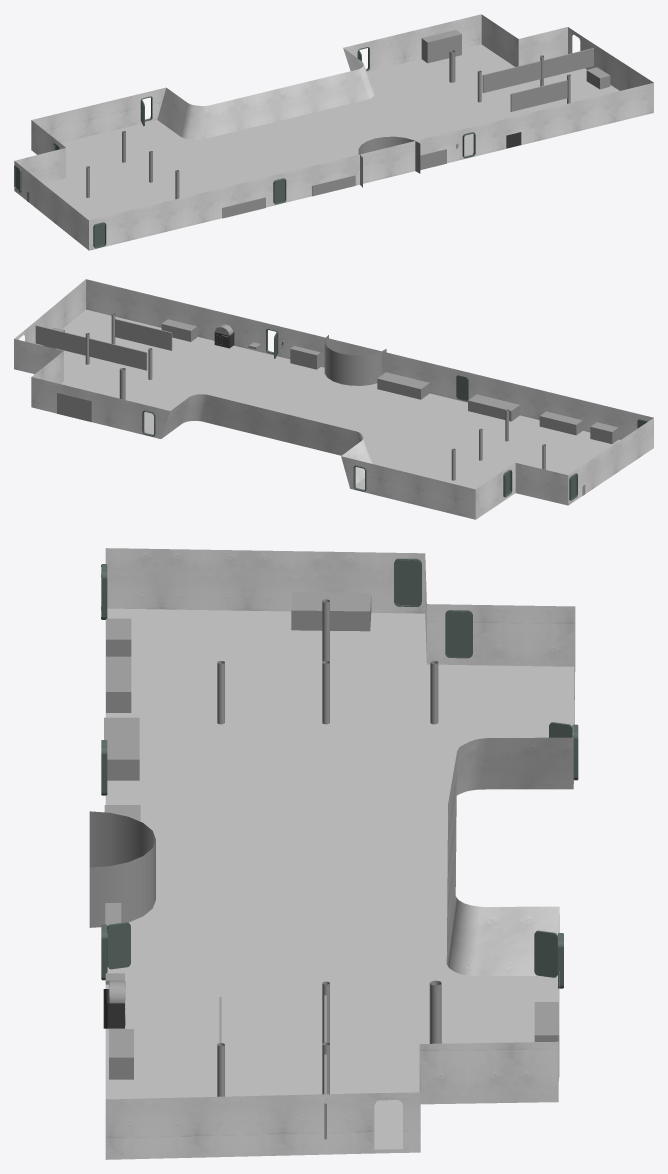
Rendered from wardroomMesh.fbx.
3 views of the same model, one above another, from view 1: azimuth 30°, elevation 25°; view 2: azimuth 150°, elevation 25°; view 3: azimuth 270°, elevation 25° (orthographic). The views are drawn at different scales.
Visible parts, largest first — view 1: polySurface25, polySurface26, pCube4, pCube5, pCube19, pCylinder14, pCube21, pCube20, pCube8, pCube16; view 2: polySurface25, polySurface26, pCube4, pCylinder14, pCube5, pCube20, pCube21, pCube19, pCube18, pCube16, pCube7, pCube17 (+1 smaller); view 3: polySurface26, polySurface25, pCylinder14, pCube22, pCube21, pCube18, polySurface24, polySurface23, pCube7, polySurface13, polySurface22, pCube19 (+2 smaller).
Boxes of the visible parts, x1,y1,x2,y2 form: polySurface25: (14, 14, 653, 250); polySurface26: (43, 44, 619, 220); pCube4: (482, 48, 593, 92); pCube5: (510, 80, 567, 111); pCube19: (421, 30, 461, 63); pCylinder14: (358, 136, 420, 187); pCube21: (222, 197, 265, 218); pCube20: (312, 175, 355, 196); pCube8: (586, 67, 610, 89); pCube16: (420, 149, 446, 169); polySurface25: (14, 279, 653, 519); polySurface26: (43, 309, 620, 489); pCube4: (35, 325, 147, 370); pCylinder14: (324, 335, 386, 385); pCube5: (115, 319, 172, 350); pCube20: (377, 372, 429, 399); pCube21: (468, 394, 519, 421); pCube19: (57, 392, 91, 421); pCube18: (539, 411, 582, 435); pCube16: (290, 346, 320, 369); pCube7: (161, 319, 197, 341); pCube17: (590, 422, 618, 443); polySurface26: (105, 608, 574, 1149); polySurface25: (105, 548, 575, 1159); pCylinder14: (89, 811, 155, 927); pCube22: (291, 592, 371, 631); pCube21: (104, 717, 139, 780); pCube18: (106, 656, 131, 712); polySurface24: (101, 922, 130, 980); polySurface23: (534, 930, 563, 988); pCube7: (109, 1029, 133, 1079); polySurface13: (447, 612, 471, 656); polySurface22: (395, 561, 419, 605); pCube19: (534, 1002, 559, 1076).
Size of the model in its own units: 6349 by 326 by 2380.
